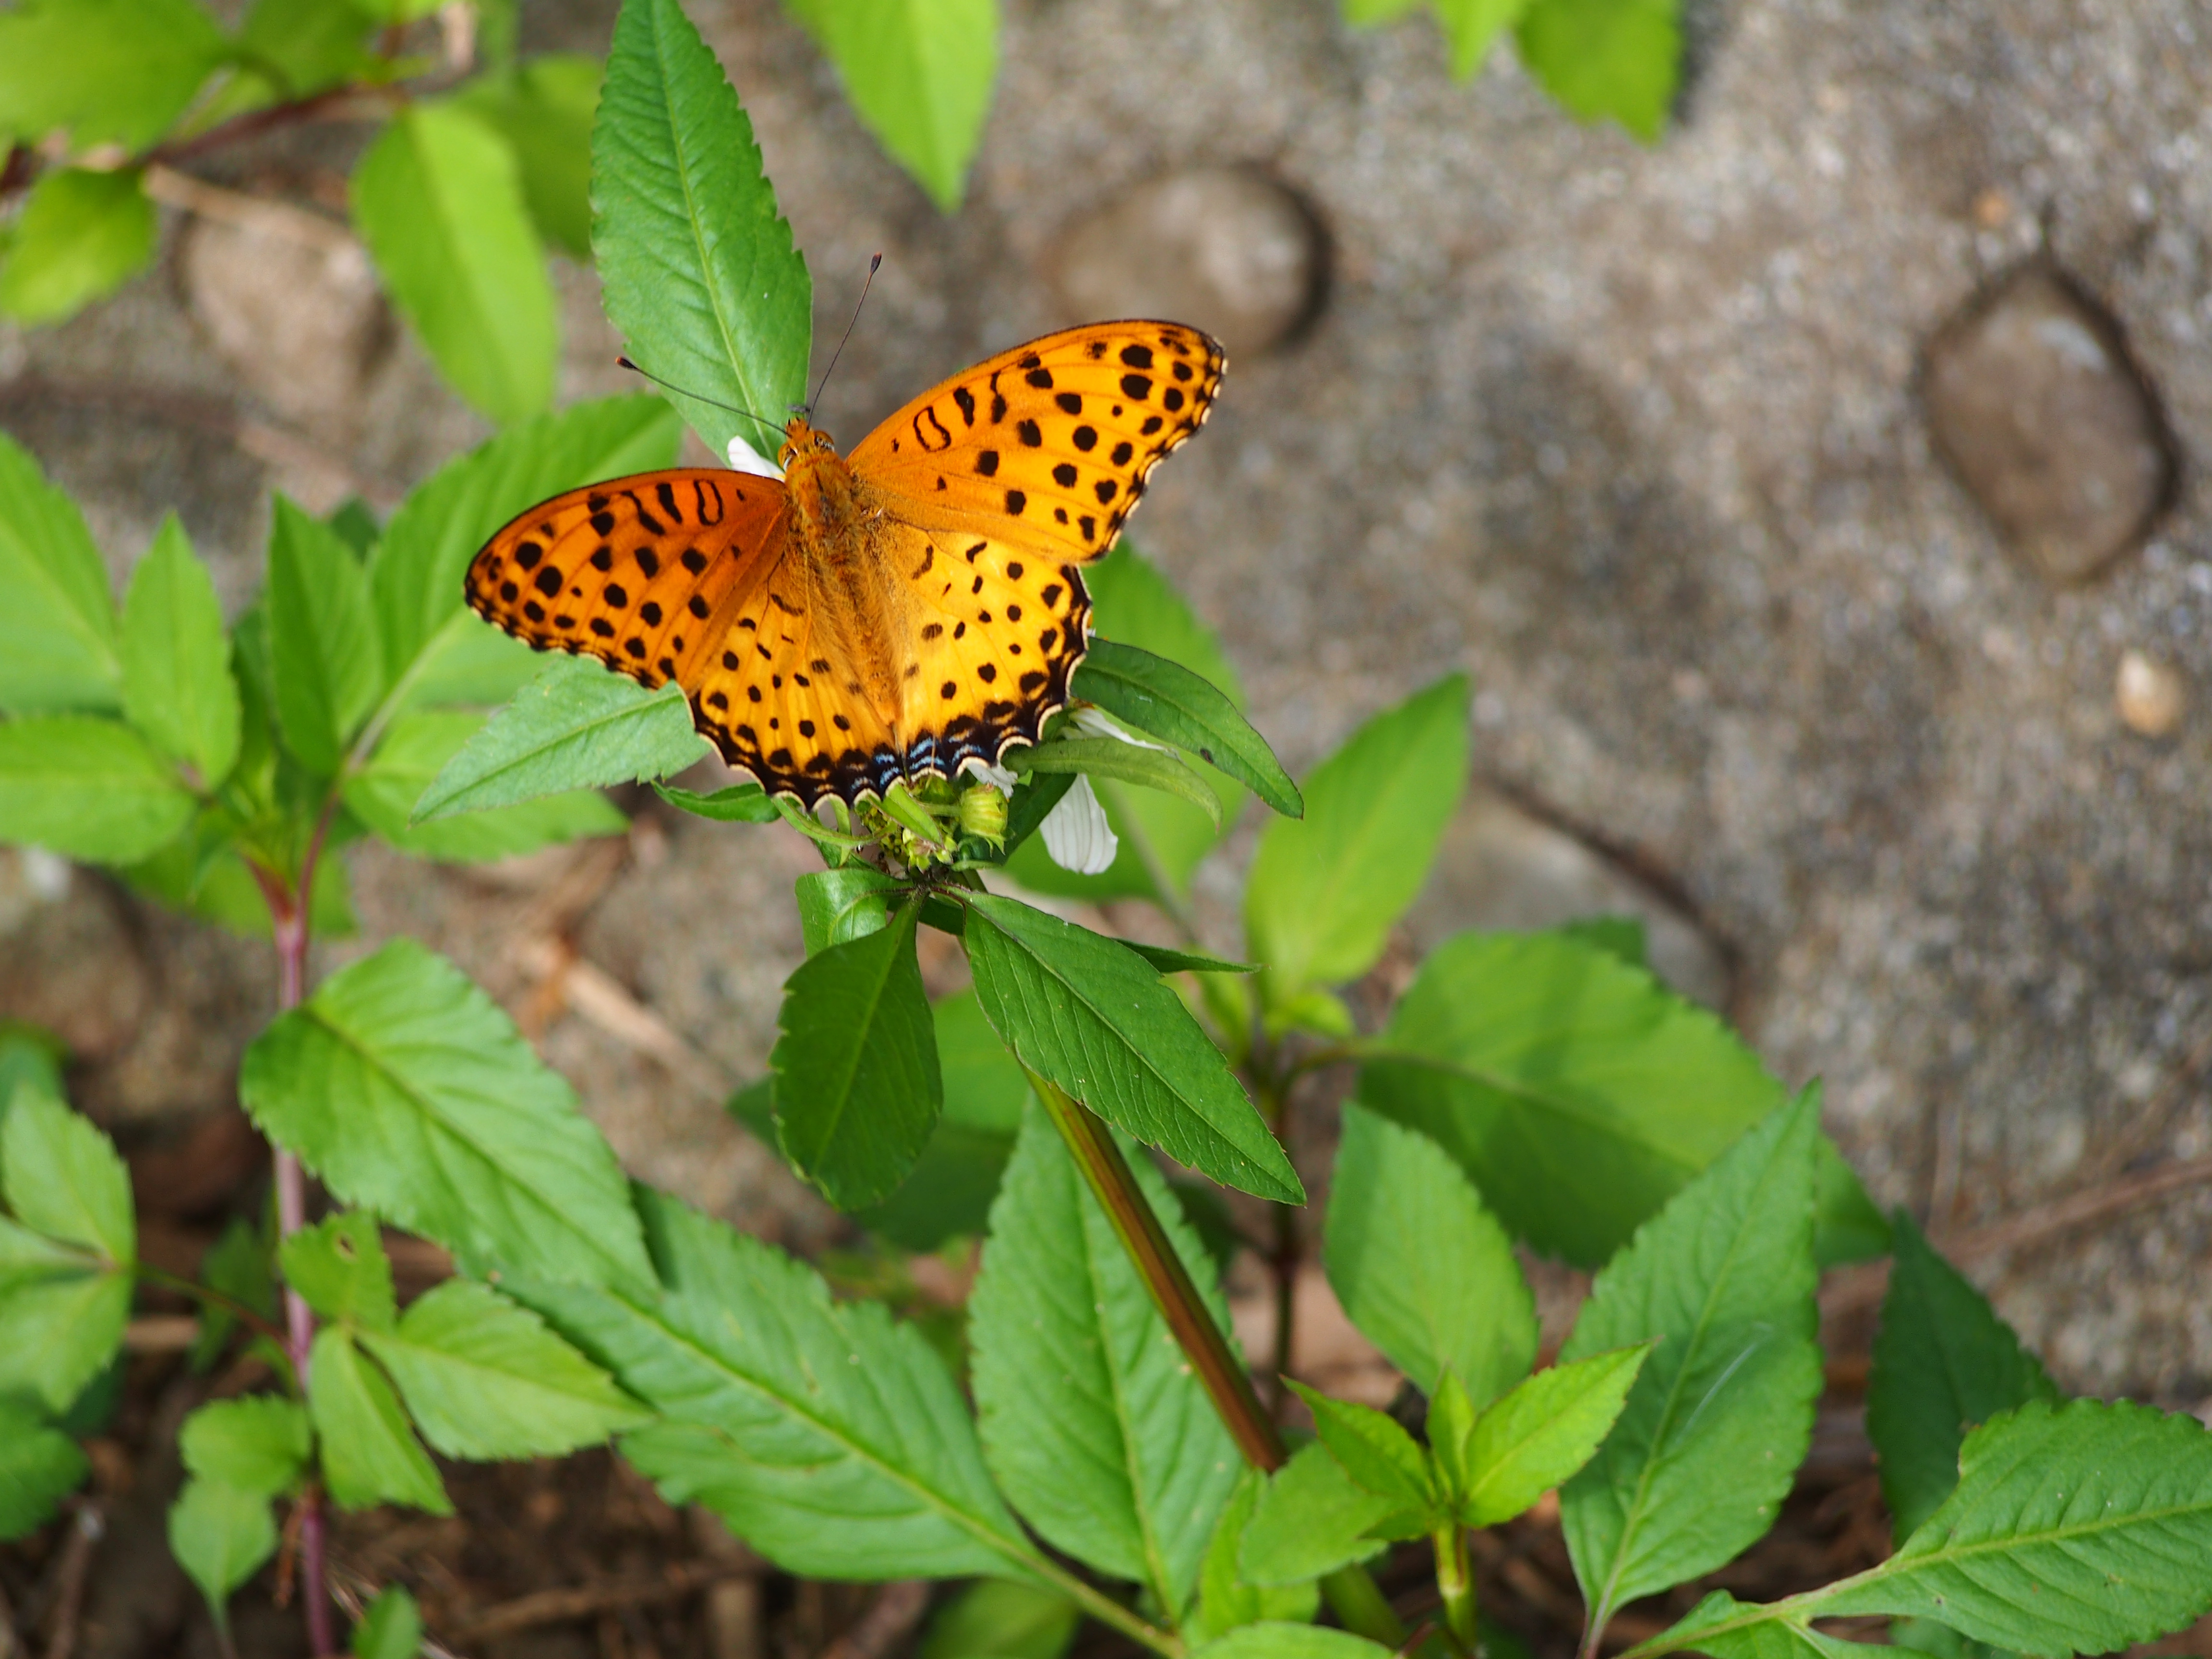Argyreus hyperbius: (448, 244, 1240, 816)
butterfly: (449, 244, 1240, 817)
